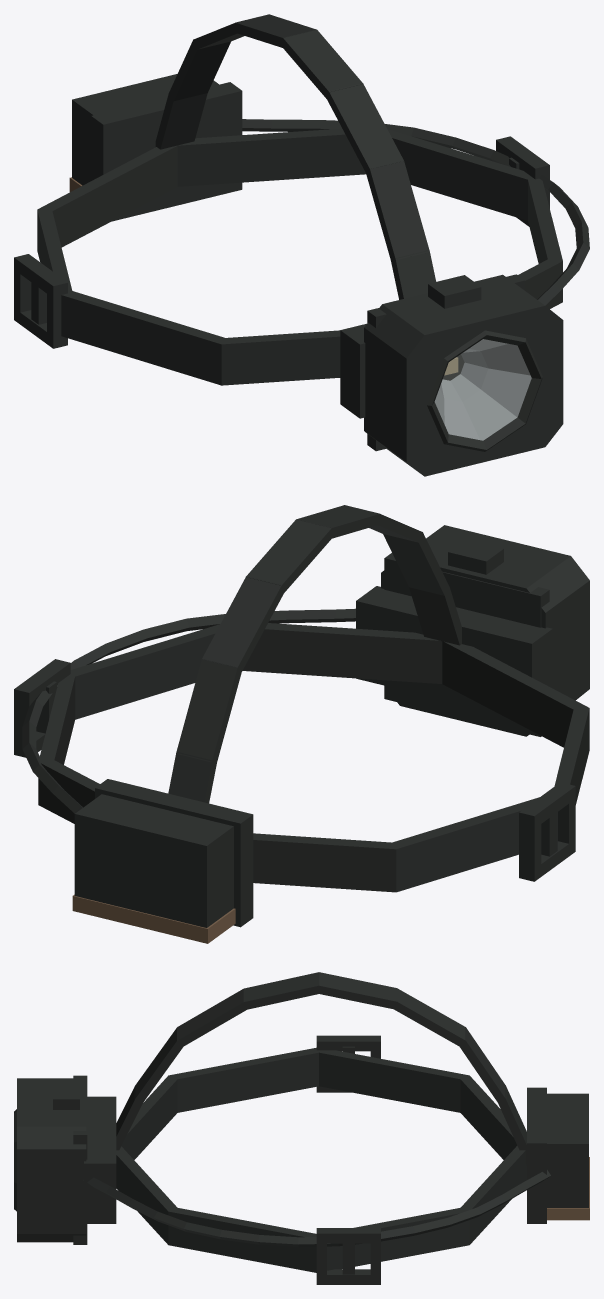
The model's file is lamp-lv1.glb.
3 renders of one model, top to bottom at view 1: azimuth 30°, elevation 25°; view 2: azimuth 150°, elevation 25°; view 3: azimuth 270°, elevation 25°, orthographic. The views are drawn at different scales.
Visible parts, largest first — view 1: headlamp-level-1, compact-angular-lamp-housing, rear-battery-mount, flat-protective-lens, recessed-faceted-reflector, open-strap-adjuster (×2), battery-power-cable, sealed-rear-battery, flush-lens-seal, front-mount, recessed-power-switch, sealed-rear-housing; view 2: headlamp-level-1, sealed-rear-battery, compact-angular-lamp-housing, front-mount, sealed-rear-housing, open-strap-adjuster (×2), battery-power-cable, rear-battery-mount, battery-cover-seam, recessed-power-switch, adjuster-crossbar; view 3: headlamp-level-1, compact-angular-lamp-housing, sealed-rear-battery, battery-power-cable, open-strap-adjuster (×2), front-mount, rear-battery-mount, recessed-power-switch, battery-cover-seam, sealed-rear-housing, adjuster-crossbar.
Boxes of the visible parts, box(x1,y1,x2,y2) form: headlamp-level-1: box(37, 14, 562, 385); compact-angular-lamp-housing: box(364, 274, 563, 476); rear-battery-mount: box(91, 82, 242, 221); flat-protective-lens: box(435, 339, 530, 439); recessed-faceted-reflector: box(434, 339, 531, 440); open-strap-adjuster (×2): box(14, 136, 549, 348); battery-power-cable: box(242, 119, 589, 305); sealed-rear-battery: box(72, 74, 218, 185); flush-lens-seal: box(427, 330, 542, 451); front-mount: box(340, 323, 366, 418); recessed-power-switch: box(428, 275, 481, 308); sealed-rear-housing: box(367, 274, 524, 451); headlamp-level-1: box(38, 505, 589, 892); sealed-rear-battery: box(74, 794, 233, 927); compact-angular-lamp-housing: box(381, 525, 589, 736); front-mount: box(356, 586, 552, 712); sealed-rear-housing: box(384, 553, 549, 736); open-strap-adjuster (×2): box(14, 659, 575, 881); battery-power-cable: box(22, 608, 355, 813); rear-battery-mount: box(95, 779, 253, 927); battery-cover-seam: box(72, 894, 235, 943); recessed-power-switch: box(448, 539, 503, 574); adjuster-crossbar: box(541, 812, 557, 856); headlamp-level-1: box(116, 972, 526, 1272); compact-angular-lamp-housing: box(17, 1078, 86, 1242); sealed-rear-battery: box(547, 1093, 588, 1207); battery-power-cable: box(83, 1170, 550, 1247); open-strap-adjuster (×2): box(316, 1035, 380, 1284); front-mount: box(84, 1096, 116, 1223); rear-battery-mount: box(527, 1087, 546, 1223); recessed-power-switch: box(53, 1084, 79, 1109); battery-cover-seam: box(547, 1157, 589, 1220); sealed-rear-housing: box(73, 1075, 87, 1244); adjuster-crossbar: box(342, 1243, 354, 1274).
Bounding box in the file's own units: 1.63 × 0.9168 × 2.
